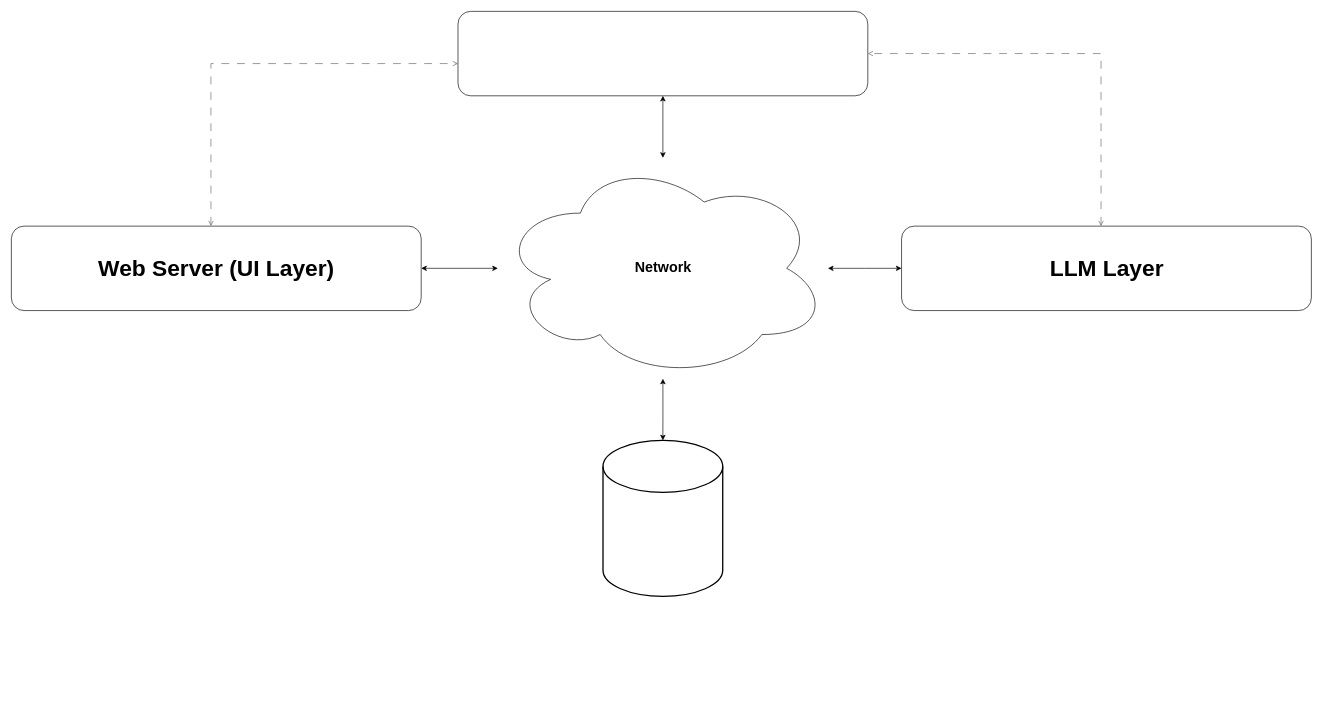
Some shapes in this 1323 by 705 pixel diagram are drawn without their labels. The shapes that lost their labels are listed below. From the top down, each one's centre as x and y in pixels, then its label:
At point 662,53: "Core Backend Layer".
At point 662,518: "Dynamo DB".
